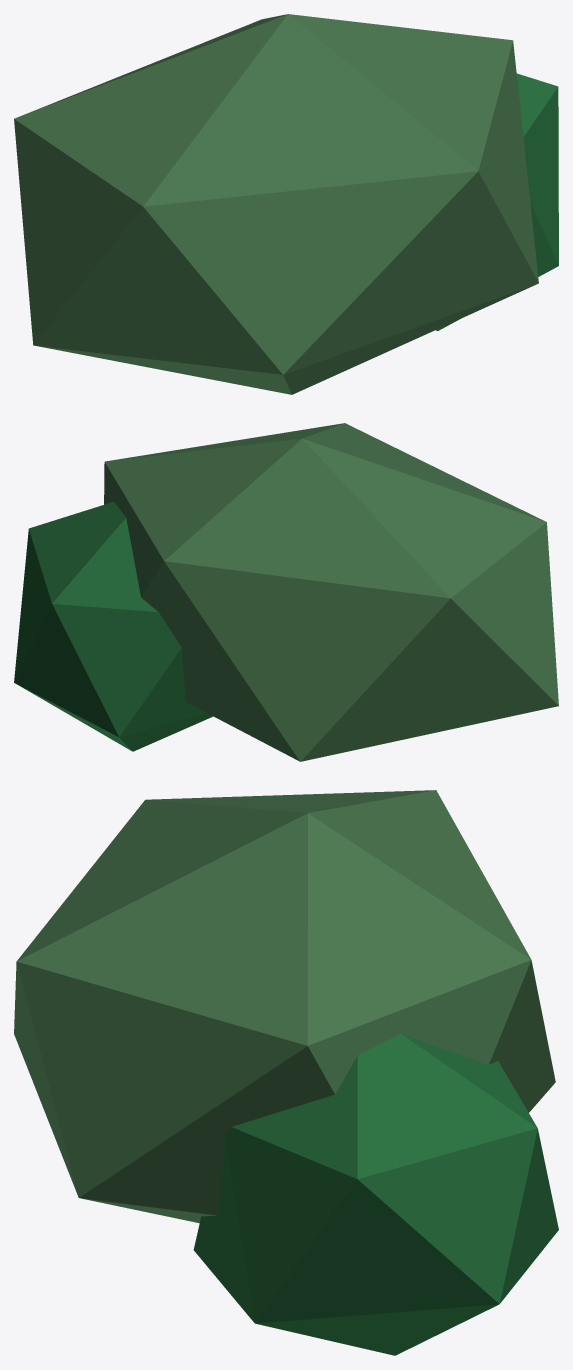
Rendered from fog_bush.glb.
The picture shows the model from 3 angles, top to bottom: view 1: azimuth 30°, elevation 25°; view 2: azimuth 150°, elevation 25°; view 3: azimuth 270°, elevation 25°; orthographic projection. The views are drawn at different scales.
Visible parts, largest first — view 1: fog_bush; view 2: fog_bush; view 3: fog_bush.
Boxes of the visible parts, x1,y1,x2,y2 form: fog_bush: (14,14,558,394); fog_bush: (14,423,558,761); fog_bush: (14,790,558,1355).
Bounding box in the file's own units: 1.56 × 0.9751 × 1.07.
